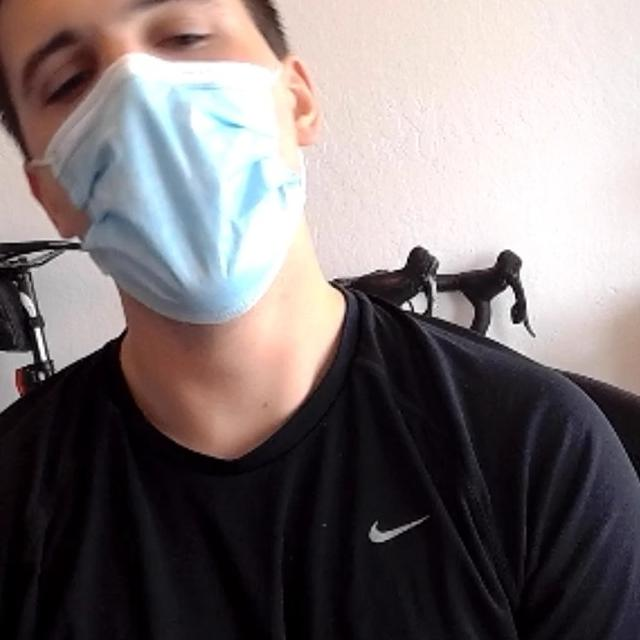Mask: (24, 58, 313, 330)
NO-Safety Vest: (0, 320, 530, 640)
Person: (0, 0, 640, 640)
